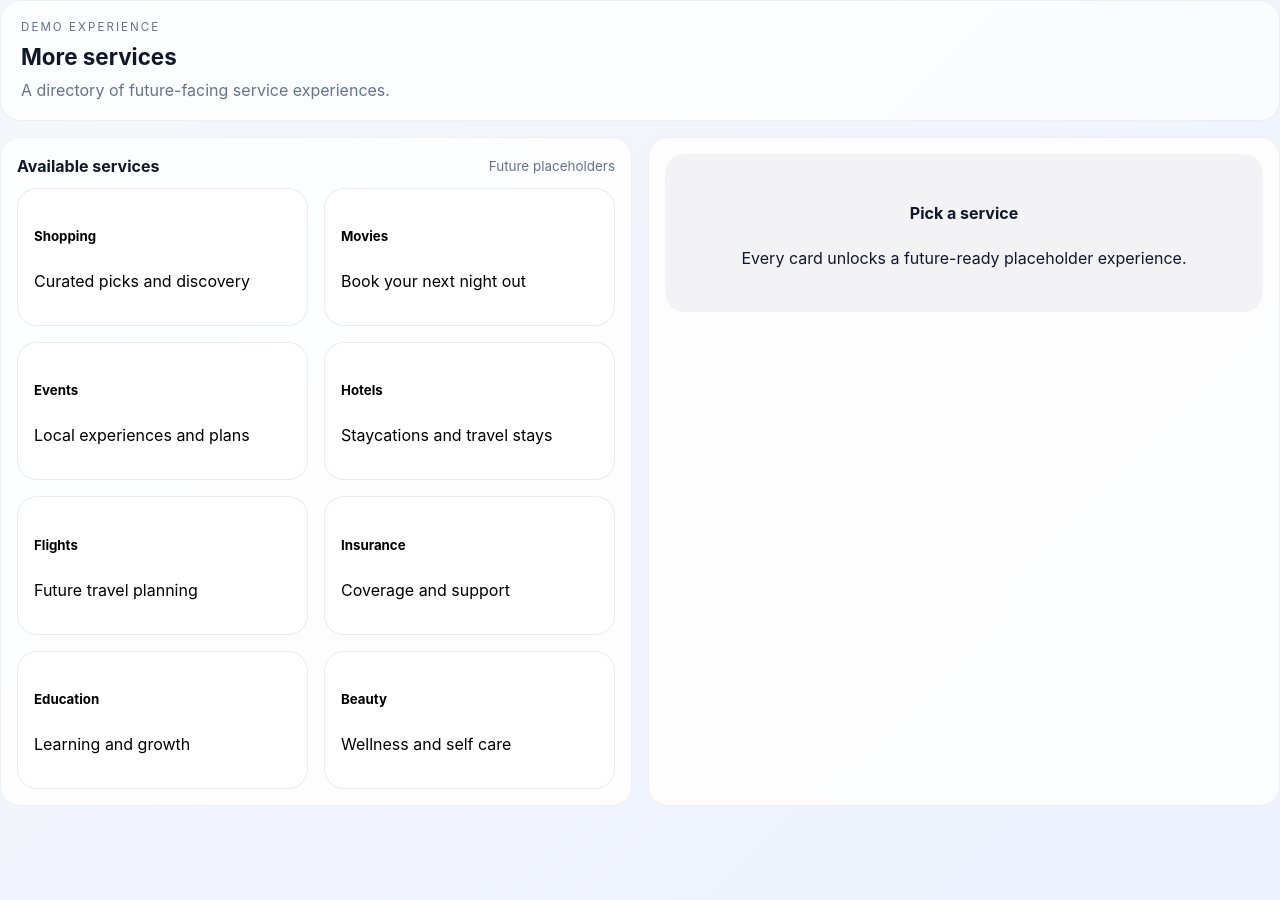
Additional demo page flows › selects a service card and shows the placeholder panel
Click the button "Shopping Curated picks and discovery": (65, 236) [17,188,308,326]
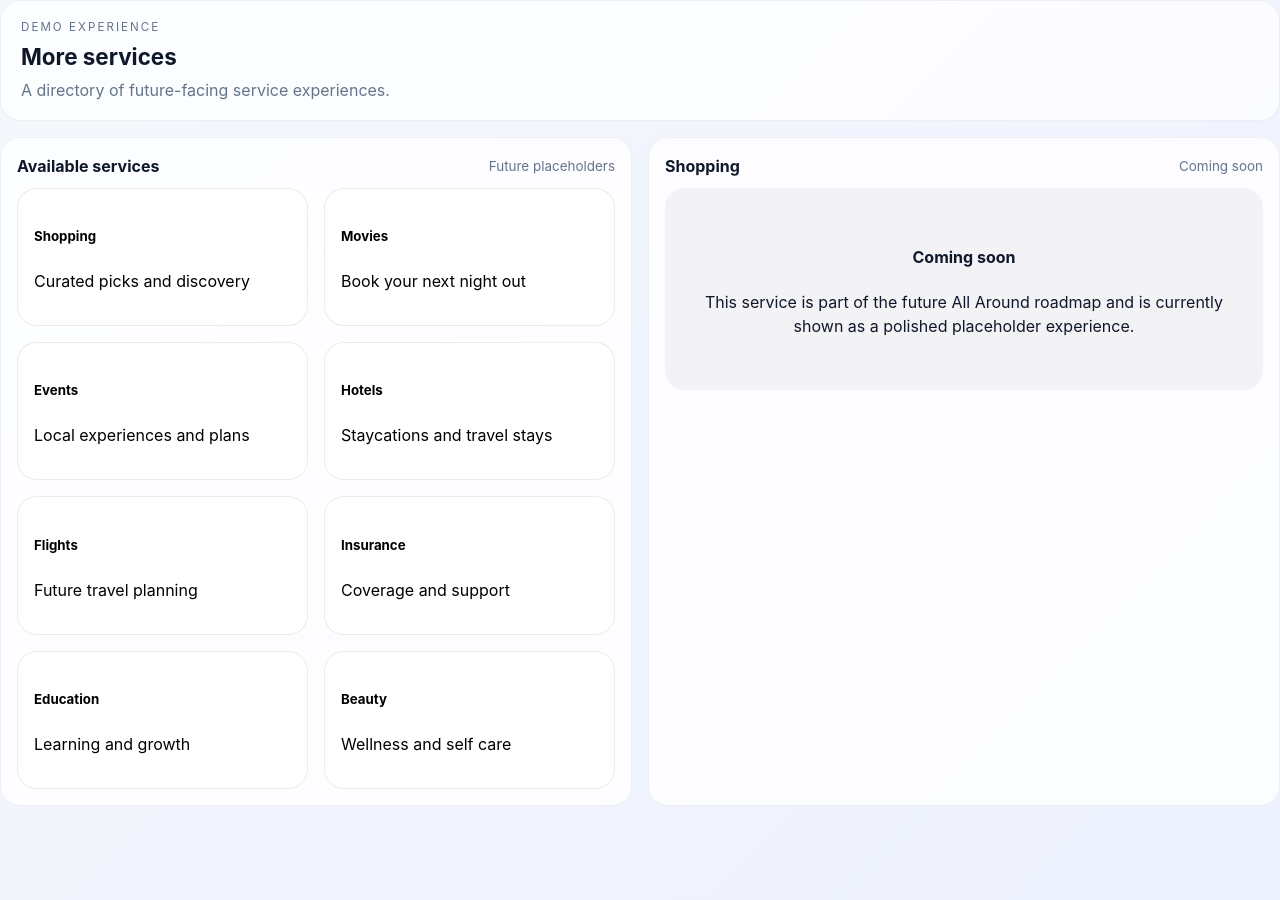
Expected: the heading "Coming soon" is shown, [912,247,1016,267]
